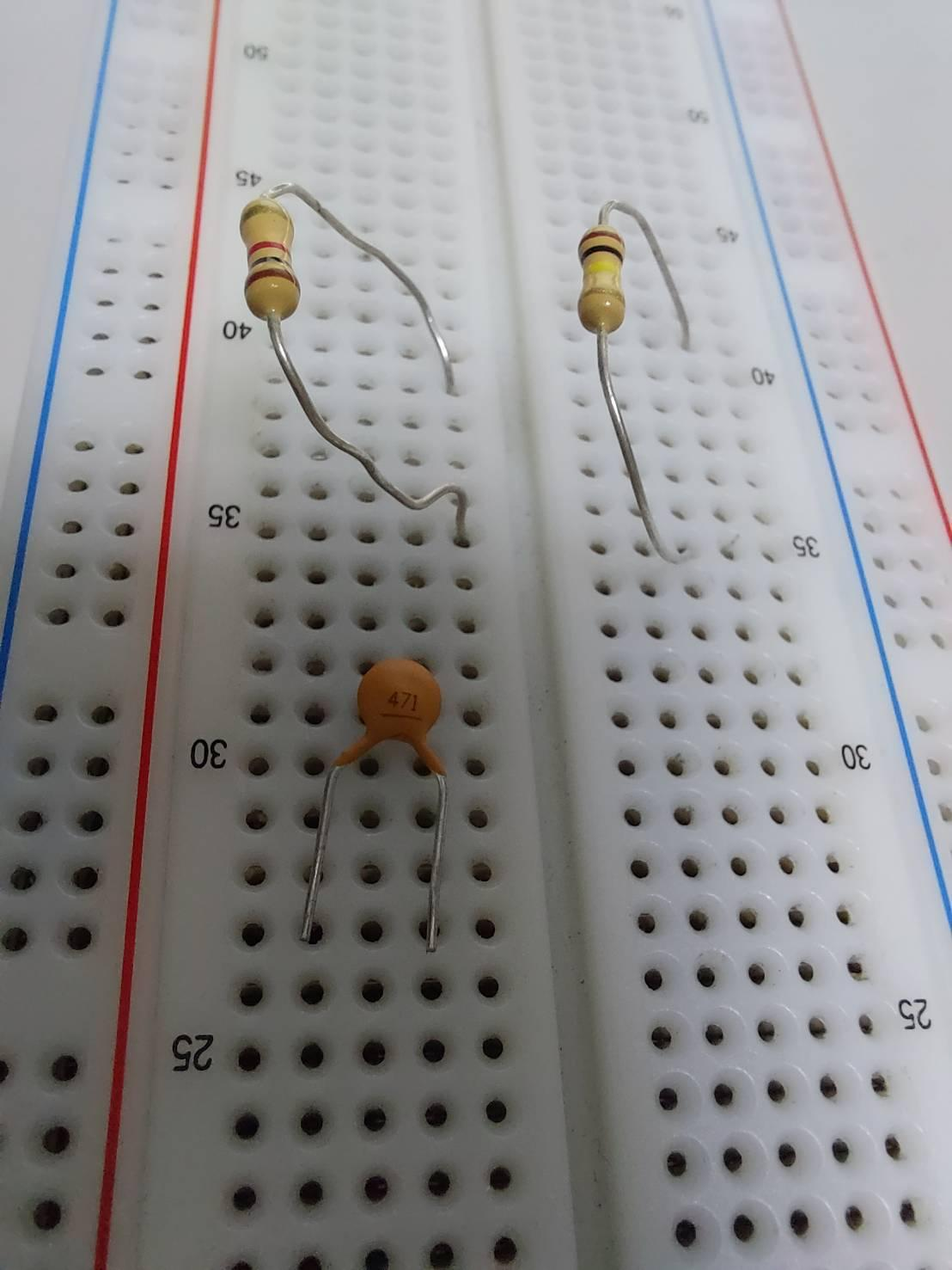resistor: (234, 193, 306, 322), (574, 230, 631, 330)
